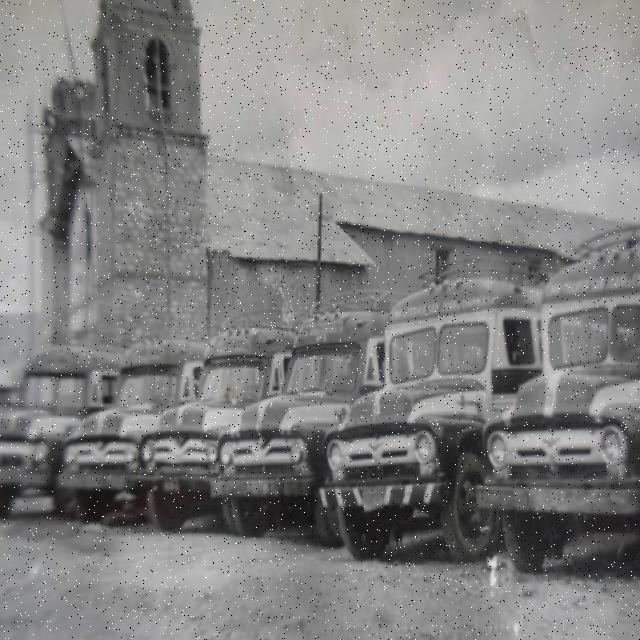CAMPANARIO: (87, 9, 220, 144)
TORRES: (75, 0, 221, 485)
